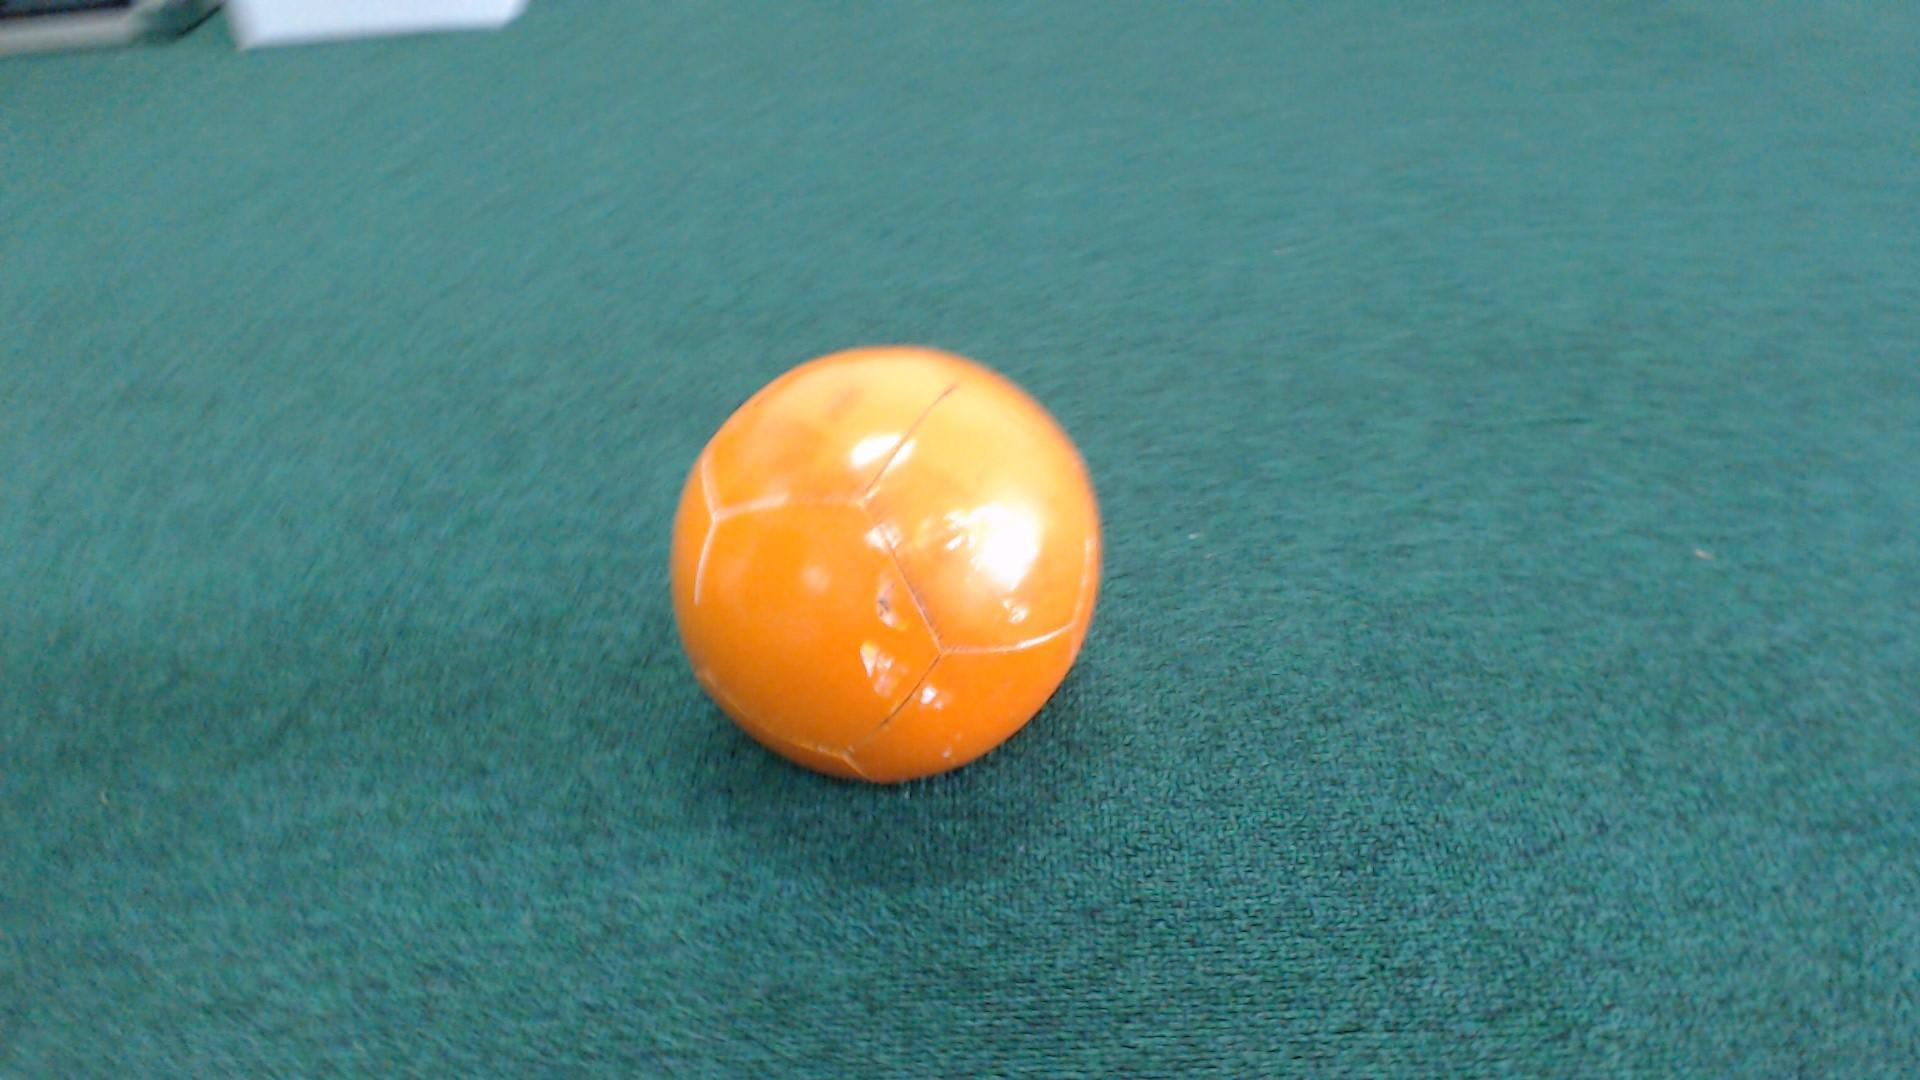bola: (628, 322, 1121, 806)
